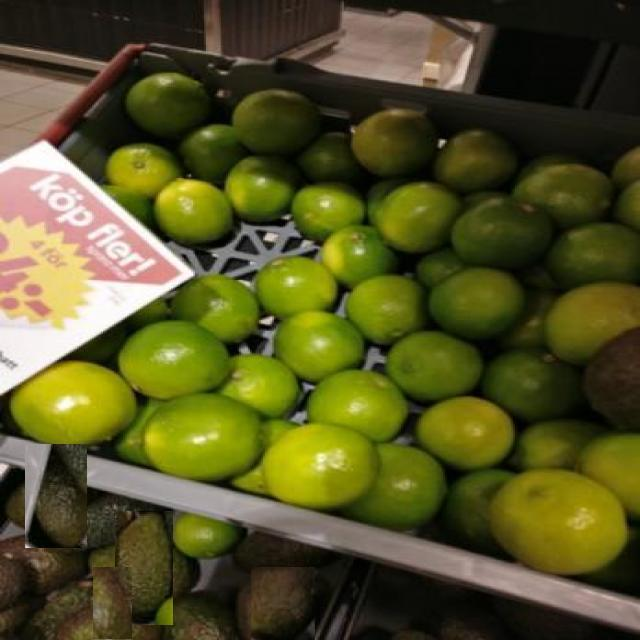Avocado: (114, 512, 173, 625), (26, 444, 87, 548), (250, 567, 315, 640), (92, 568, 132, 640)
